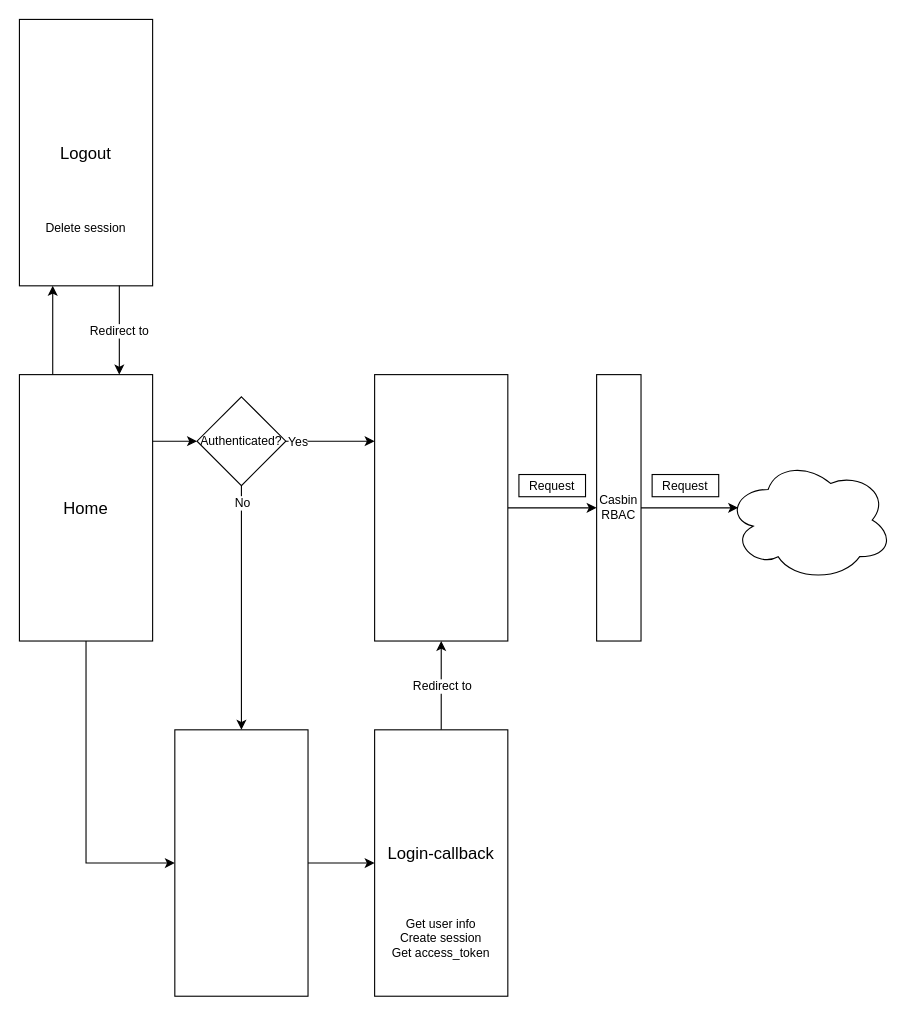
Image size: 912x1016. Some labels were removed from this diagram. Each missing label, with the centre of its shape:
"Google Tasks API" goes at point (809, 519).
"Login" goes at point (241, 862).
"Tasks" goes at point (441, 507).
